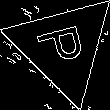P_E: (34, 22, 93, 71)
